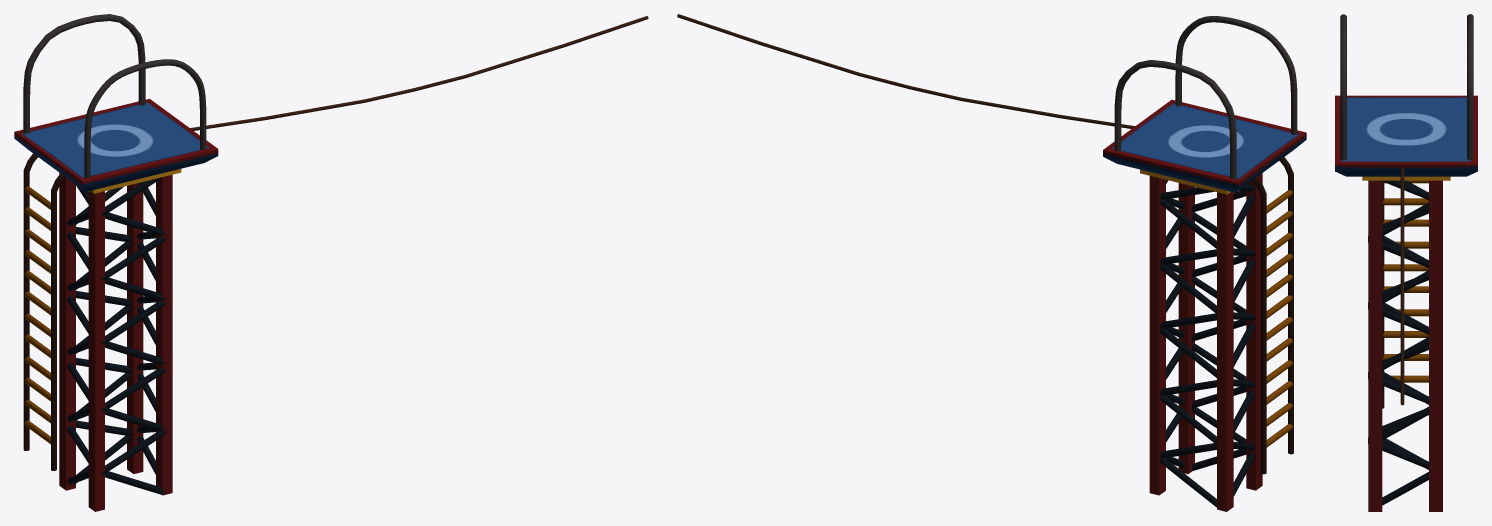
The model's file is Tightrope.fbx.
3 renders of one model, left to right at view 1: azimuth 30°, elevation 25°; view 2: azimuth 150°, elevation 25°; view 3: azimuth 270°, elevation 25°, orthographic. The views are drawn at different scales.
Visible parts, largest first — view 1: TightropeBase1, TightropeSupportBeam3, TightropeSupportBeam4, TightropeSupportBeam1, TightropeSupportBeam2, TightropeBar1, TightropeBar2, TightropeRope, LadderPole2, LadderPole1; view 2: TightropeBase1, TightropeSupportBeam1, TightropeSupportBeam2, TightropeSupportBeam3, TightropeSupportBeam4, LadderPole1, TightropeBar1, TightropeRope, TightropeBar2, LadderPole2; view 3: TightropeBase1, TightropeSupportBeam4, TightropeSupportBeam2, TightropeRope, TightropeBar1, TightropeBar2, ZigZagBar_29, LadderPole2, ZigZagBar_28, ZigZagBar_30, ZigZagBar_24, ZigZagBar_26 (+13 smaller).
Boxes of the visible parts, x1,y1,x2,y2 form: TightropeBase1: (14,99,218,193); TightropeSupportBeam3: (88,191,104,511); TightropeSupportBeam4: (156,174,172,495); TightropeSupportBeam1: (59,173,75,490); TightropeSupportBeam2: (127,183,143,473); TightropeBar1: (23,14,145,133); TightropeBar2: (84,59,206,178); TightropeRope: (190,16,648,130); LadderPole2: (51,173,65,470); LadderPole1: (23,153,38,450); TightropeBase1: (1103,99,1306,194); TightropeSupportBeam1: (1217,192,1233,511); TightropeSupportBeam2: (1149,176,1165,495); TightropeSupportBeam3: (1246,173,1262,490); TightropeSupportBeam4: (1178,183,1194,474); LadderPole1: (1252,176,1266,474); TightropeBar1: (1114,60,1236,179); TightropeRope: (677,14,1134,128); TightropeBar2: (1175,16,1297,134); LadderPole2: (1279,156,1293,454); TightropeBase1: (1335,95,1477,180); TightropeSupportBeam4: (1368,180,1382,511); TightropeSupportBeam2: (1429,180,1442,511); TightropeRope: (1400,168,1404,405); TightropeBar1: (1467,14,1473,159); TightropeBar2: (1340,14,1346,159); ZigZagBar_29: (1382,472,1428,505); LadderPole2: (1382,182,1384,408); ZigZagBar_28: (1382,406,1428,440); ZigZagBar_30: (1382,443,1428,469); ZigZagBar_24: (1382,270,1428,303); ZigZagBar_26: (1382,337,1428,370).
Size of the model in its own units: 49.1 by 34.82 by 9.62.
